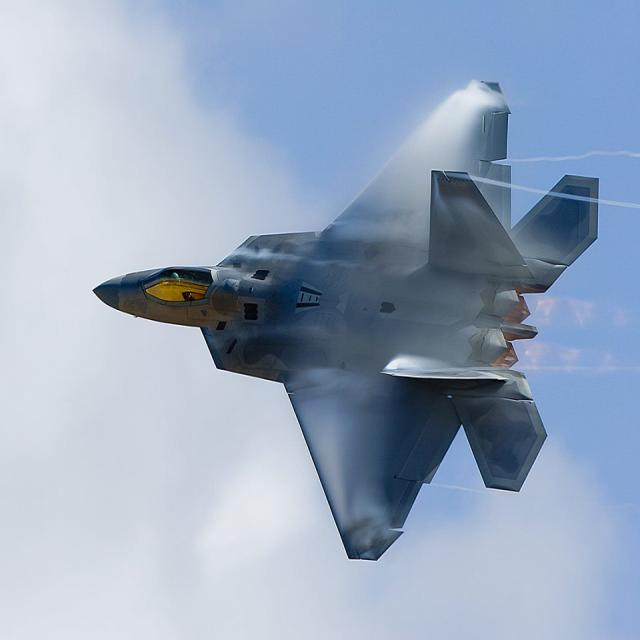F22: (88, 82, 600, 558)
